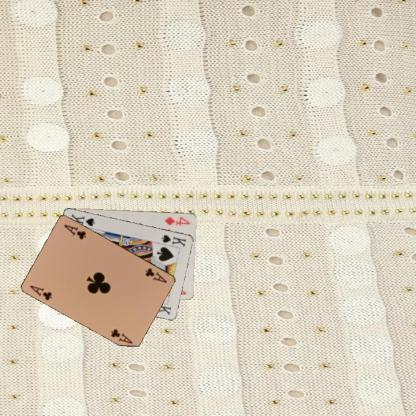4d: (162, 214, 192, 226)
Ac: (143, 265, 168, 284), (28, 282, 53, 301)
Ks: (159, 232, 187, 248)
